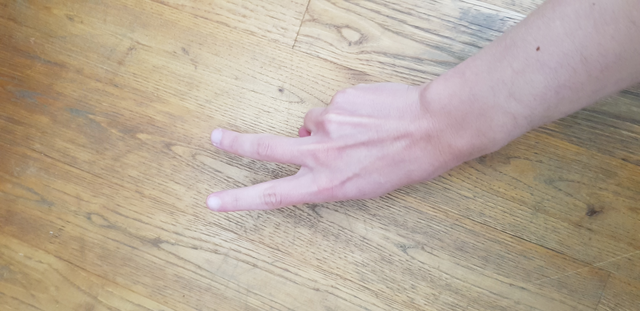Scissors: (194, 65, 493, 229)
